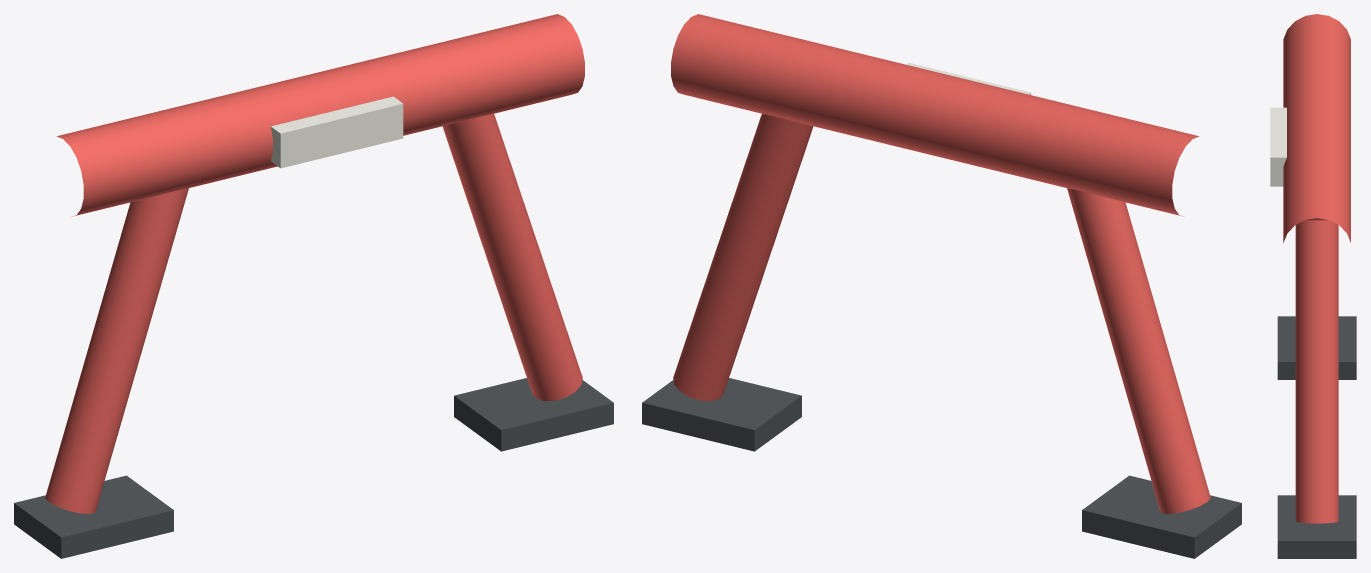
File: jump-barrier.glb
3 renders of one model, left to right at view 1: azimuth 30°, elevation 25°; view 2: azimuth 150°, elevation 25°; view 3: azimuth 270°, elevation 25°, orthographic. The views are drawn at different scales.
Parts seen in each view (by area): view 1: top-padded-rail, left-a-leg, right-a-leg, left-foot, right-foot, center-tape; view 2: top-padded-rail, left-a-leg, right-a-leg, left-foot, right-foot; view 3: top-padded-rail, right-a-leg, right-foot, left-foot, center-tape.
Part boxes in pixels (bbox=[...]): top-padded-rail: bbox=[57, 14, 584, 216]; left-a-leg: bbox=[45, 188, 188, 513]; right-a-leg: bbox=[442, 114, 582, 400]; left-foot: bbox=[14, 475, 173, 558]; right-foot: bbox=[454, 378, 613, 451]; center-tape: bbox=[271, 96, 403, 168]; top-padded-rail: bbox=[671, 14, 1198, 216]; left-a-leg: bbox=[1067, 188, 1210, 513]; right-a-leg: bbox=[673, 114, 813, 400]; left-foot: bbox=[1082, 475, 1241, 558]; right-foot: bbox=[642, 378, 801, 451]; top-padded-rail: bbox=[1283, 14, 1350, 242]; right-a-leg: bbox=[1295, 220, 1338, 523]; right-foot: bbox=[1277, 495, 1356, 558]; left-foot: bbox=[1277, 316, 1356, 379]; center-tape: bbox=[1270, 107, 1286, 186].
Bounding box in the file's own units: 1.08 × 0.74 × 0.175.
